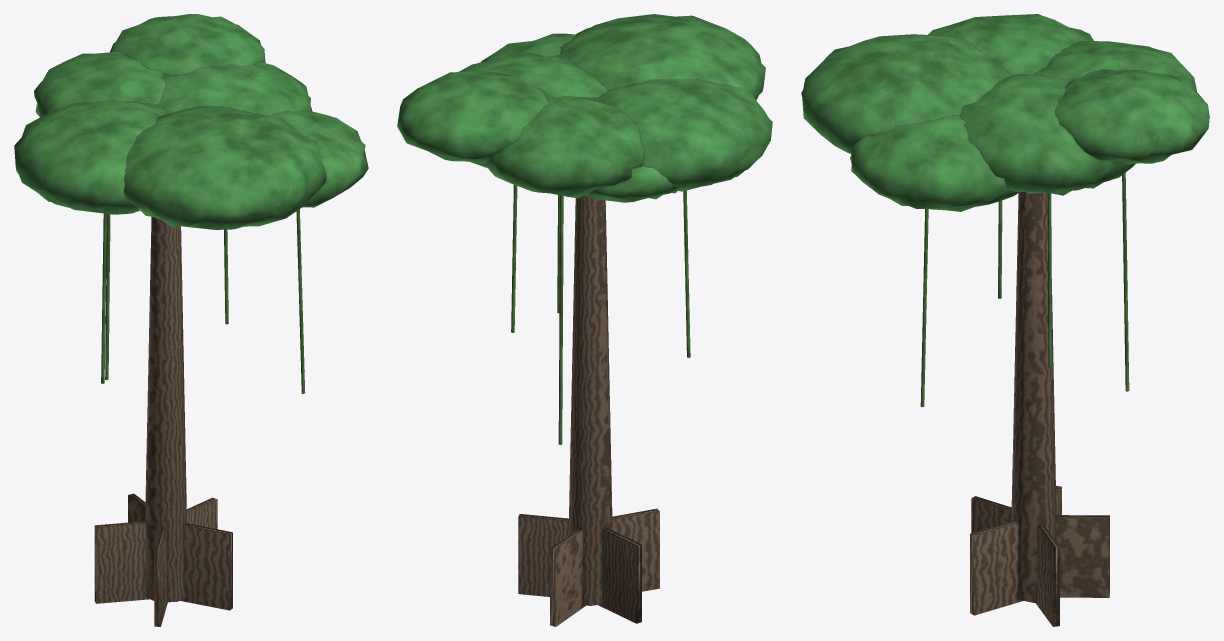
Rendered from jungle_tree.glb.
The picture shows the model from 3 angles, left to right: view 1: azimuth 30°, elevation 25°; view 2: azimuth 150°, elevation 25°; view 3: azimuth 270°, elevation 25°; orthographic projection. The views are drawn at different scales.
Parts seen in each view (by area): view 1: JungleTree; view 2: JungleTree; view 3: JungleTree.
Part boxes in pixels (box(x1,y1,x2,y2)): JungleTree: box(14, 14, 368, 626); JungleTree: box(397, 14, 772, 626); JungleTree: box(801, 14, 1209, 626).
Bounding box in the file's own units: 9.12 × 15.14 × 10.24.
3 materials, 3 textured.
